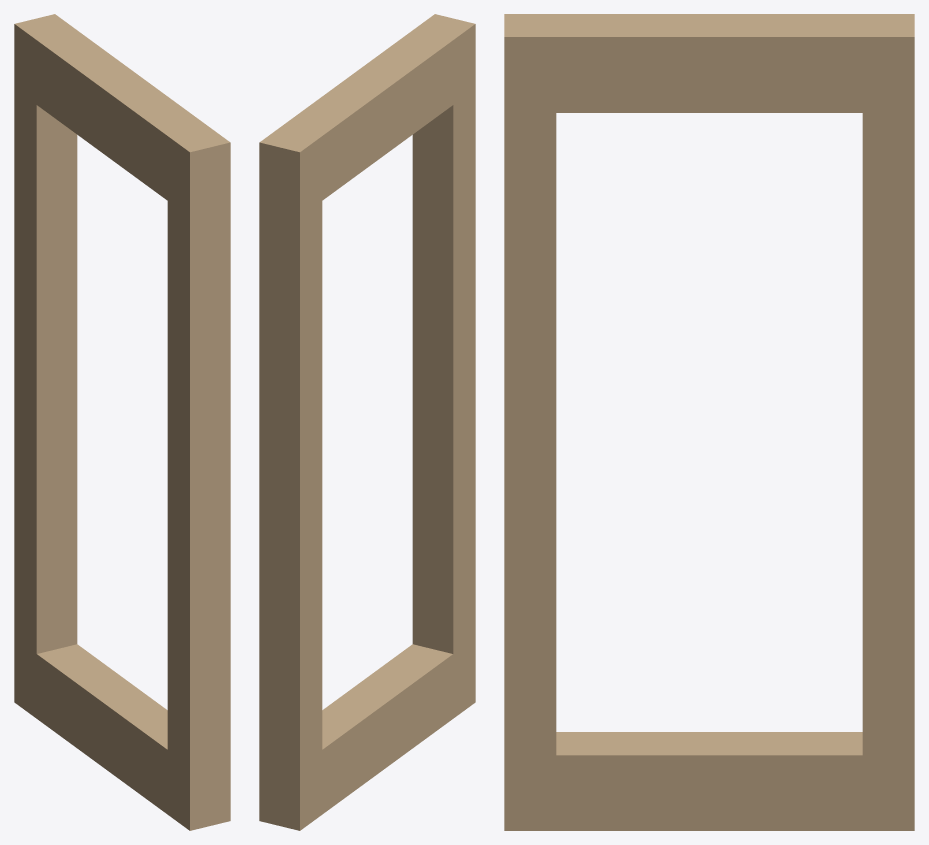
File: Building Frame 22.fbx
3 views of the same model, side by side, from view 1: azimuth 30°, elevation 25°; view 2: azimuth 150°, elevation 25°; view 3: azimuth 270°, elevation 25° (orthographic). The views are drawn at different scales.
Parts seen in each view (by area): view 1: Building Frame 22; view 2: Building Frame 22; view 3: Building Frame 22.
Boxes of the visible parts, bbox=[...] form: Building Frame 22: bbox=[14, 14, 230, 830]; Building Frame 22: bbox=[259, 14, 475, 830]; Building Frame 22: bbox=[504, 14, 914, 830].
Bounding box in the file's own units: 0.05 × 0.8 × 0.375.
